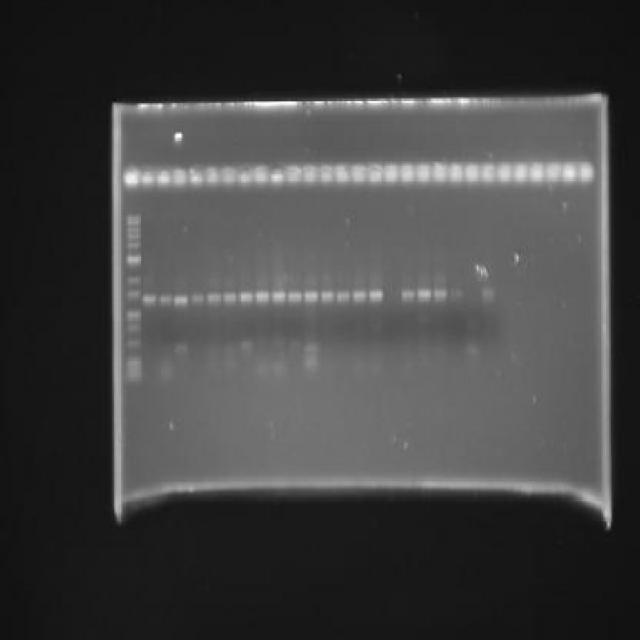B: (400, 288, 417, 306), (480, 288, 498, 304), (432, 288, 450, 304), (205, 290, 222, 306), (302, 342, 321, 356), (318, 288, 336, 302), (254, 290, 272, 304), (302, 356, 321, 369), (417, 288, 432, 304), (351, 288, 367, 302), (368, 289, 384, 303), (288, 290, 304, 304), (271, 290, 287, 304), (238, 290, 254, 304), (222, 292, 238, 306), (142, 293, 158, 307), (237, 339, 254, 352), (172, 342, 188, 355), (303, 290, 320, 302), (336, 289, 350, 303), (190, 292, 204, 306), (158, 292, 172, 306), (463, 344, 479, 356), (450, 288, 464, 300), (174, 294, 188, 306)
L: (121, 158, 598, 197)
M: (122, 208, 144, 387)
P: (125, 367, 141, 382), (125, 356, 142, 369), (126, 289, 140, 303), (127, 274, 141, 288), (127, 253, 141, 267), (127, 322, 141, 335), (126, 309, 140, 322), (126, 338, 140, 348), (126, 242, 140, 250), (126, 234, 140, 242), (126, 225, 140, 233), (126, 220, 140, 226), (126, 214, 140, 220)
Pc: (576, 161, 596, 187), (528, 160, 546, 186), (512, 160, 530, 186), (544, 160, 562, 185), (562, 161, 578, 187), (300, 164, 318, 187), (350, 163, 367, 186), (414, 163, 432, 184), (480, 162, 497, 184), (464, 162, 481, 184), (286, 163, 302, 186), (498, 161, 514, 184), (334, 163, 349, 186), (318, 163, 333, 186), (432, 161, 448, 182), (383, 163, 399, 184), (448, 162, 463, 184), (122, 168, 140, 186), (220, 166, 237, 185), (253, 166, 270, 185), (270, 167, 286, 187), (400, 162, 414, 184), (140, 167, 156, 186), (367, 164, 382, 184), (188, 168, 204, 186), (237, 167, 252, 186), (172, 168, 186, 186), (206, 167, 220, 184), (156, 170, 170, 184)
